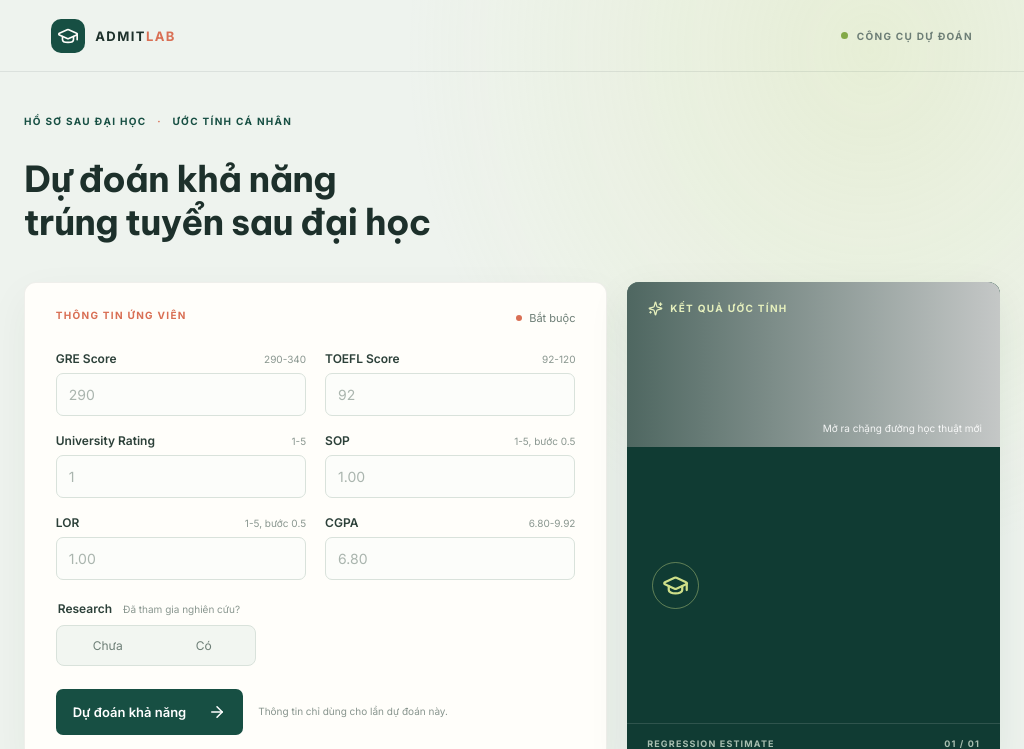
admission prediction form › shows a readable error when the Backend request fails
Type "337" into the number field labelled "GRE Score" at [181, 394], box [56,373,306,416]
Type "118" into the number field labelled "TOEFL Score" at [450, 394], box [325,373,576,416]
Type "4" into the number field labelled "University Rating" at [181, 476], box [56,455,306,498]
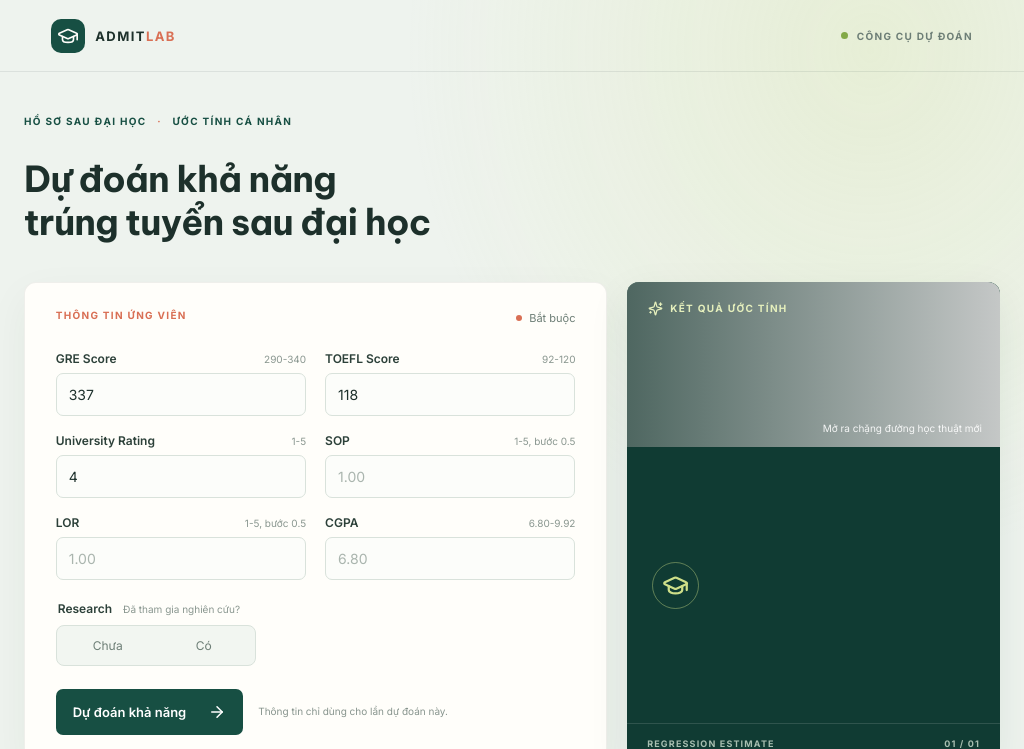
Type "4.5" into the number field labelled "SOP" at [450, 476], box [325,455,576,498]
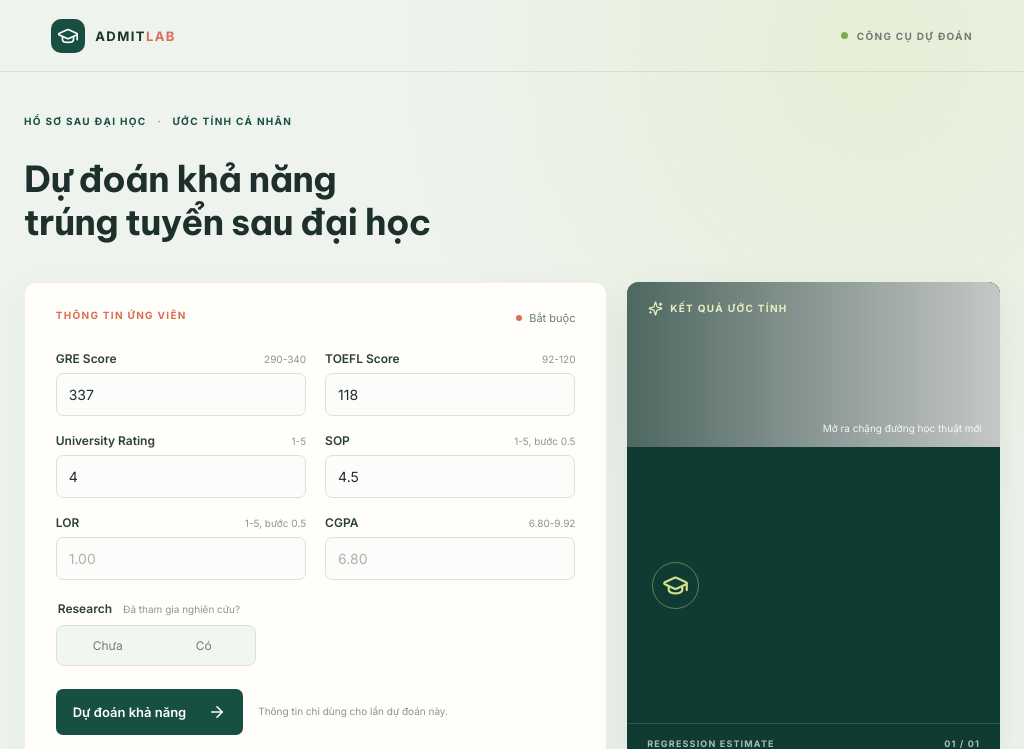
Type "4.5" into the number field labelled "LOR" at [181, 558], box [56,537,306,580]
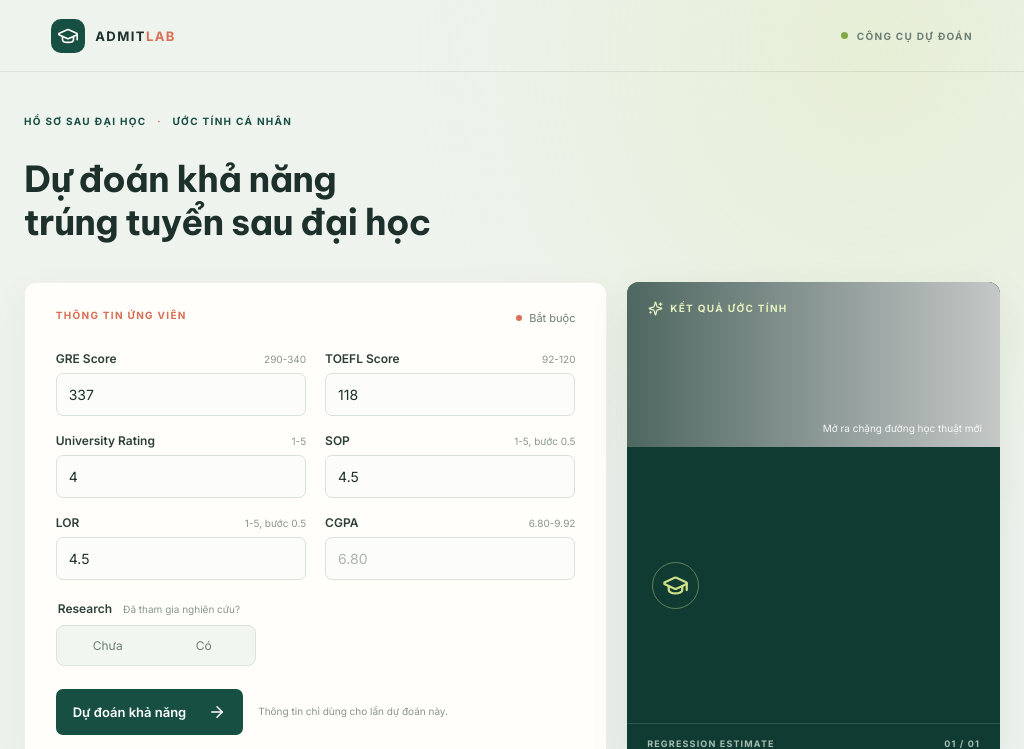
Type "9.65" into the number field labelled "CGPA" at [450, 558], box [325,537,576,580]
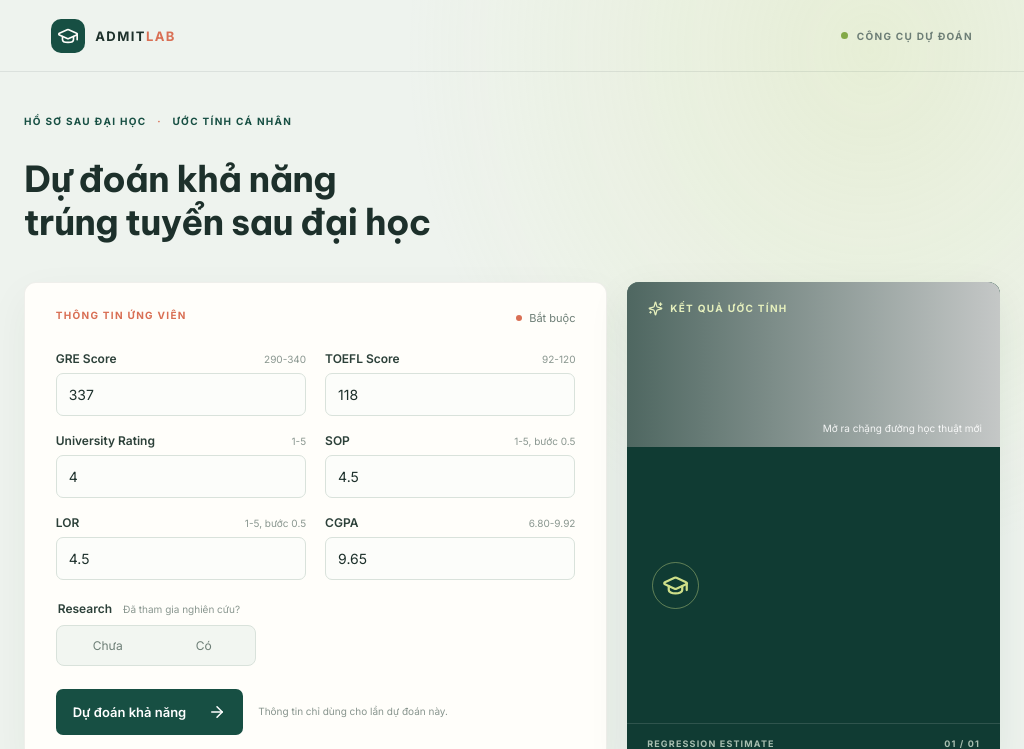
Click the radio button labelled "Chưa" at [108, 645], box [93,638,123,653]
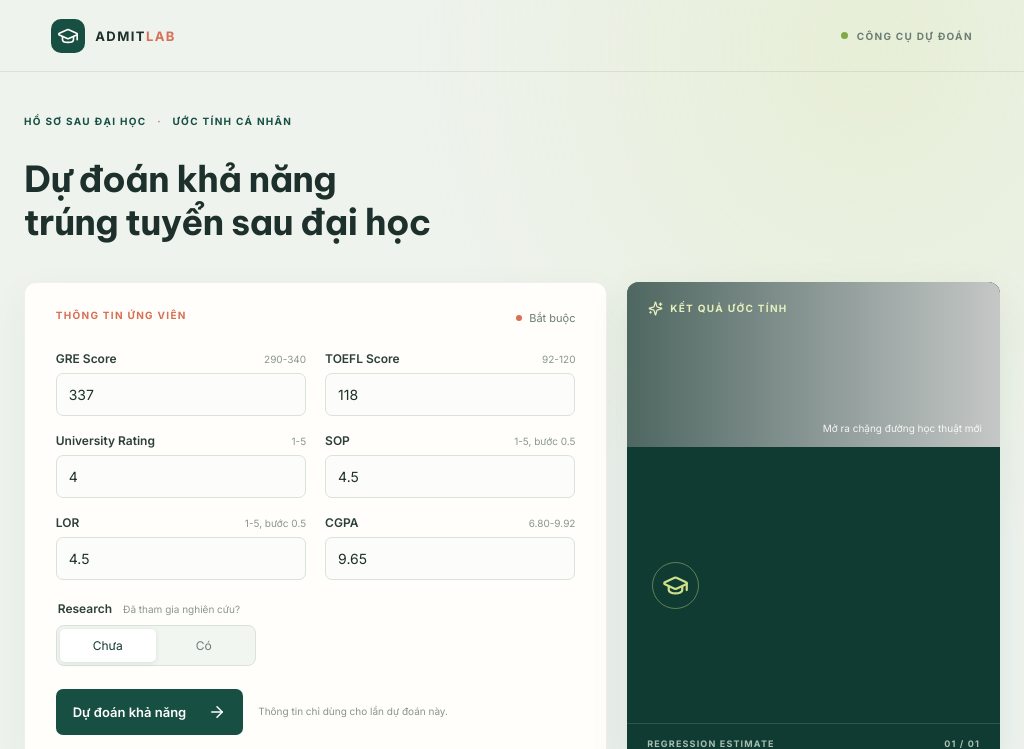
Click the button "Dự đoán khả năng" at [149, 712], box [56,689,243,735]
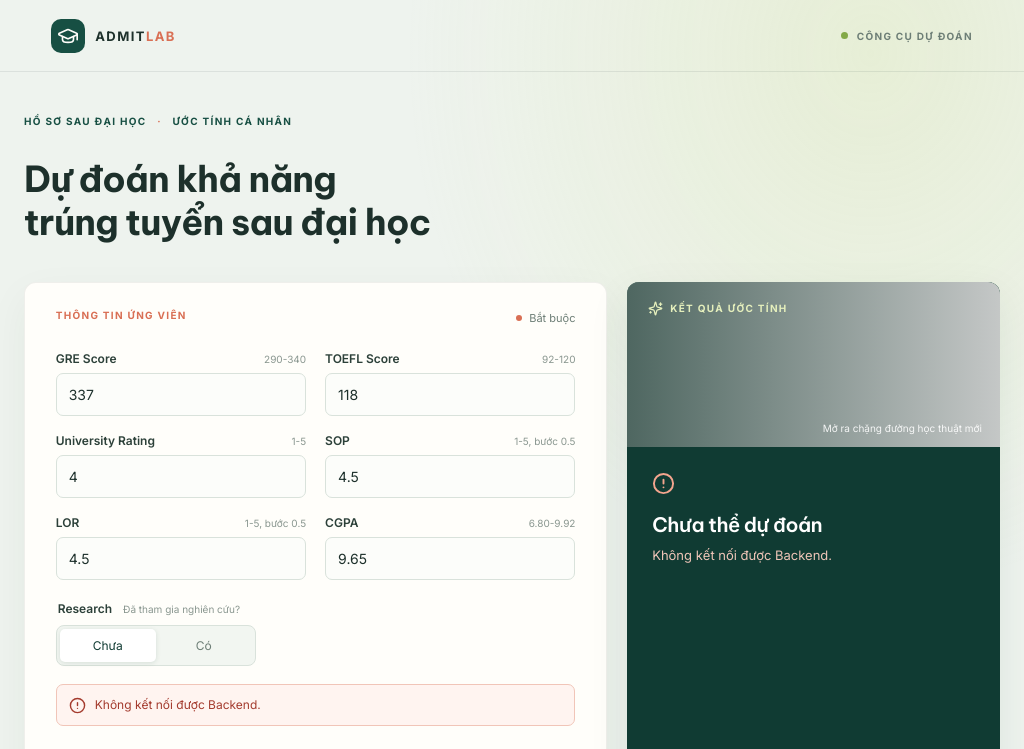
Expected: the text "Không kết nối được Backend." is shown 2 times, [56,684,575,726]; [652,547,832,563]
Expected: the heading "Chưa thể dự đoán" is shown, [652,512,822,537]
